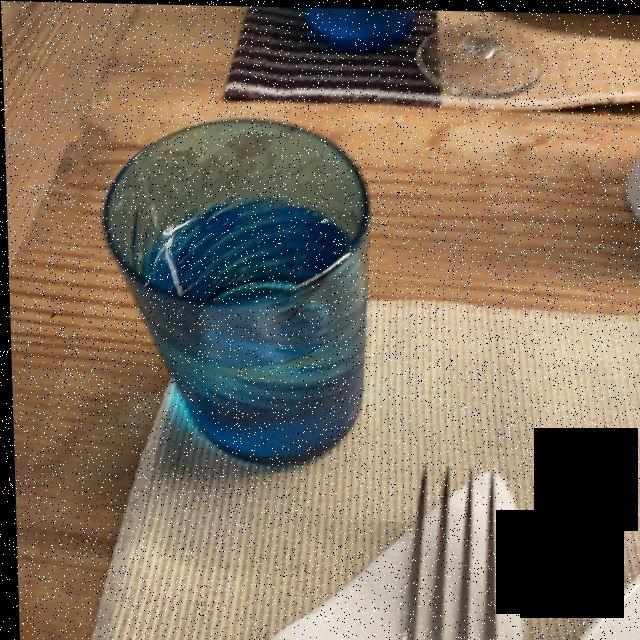water: (140, 200, 359, 449)
